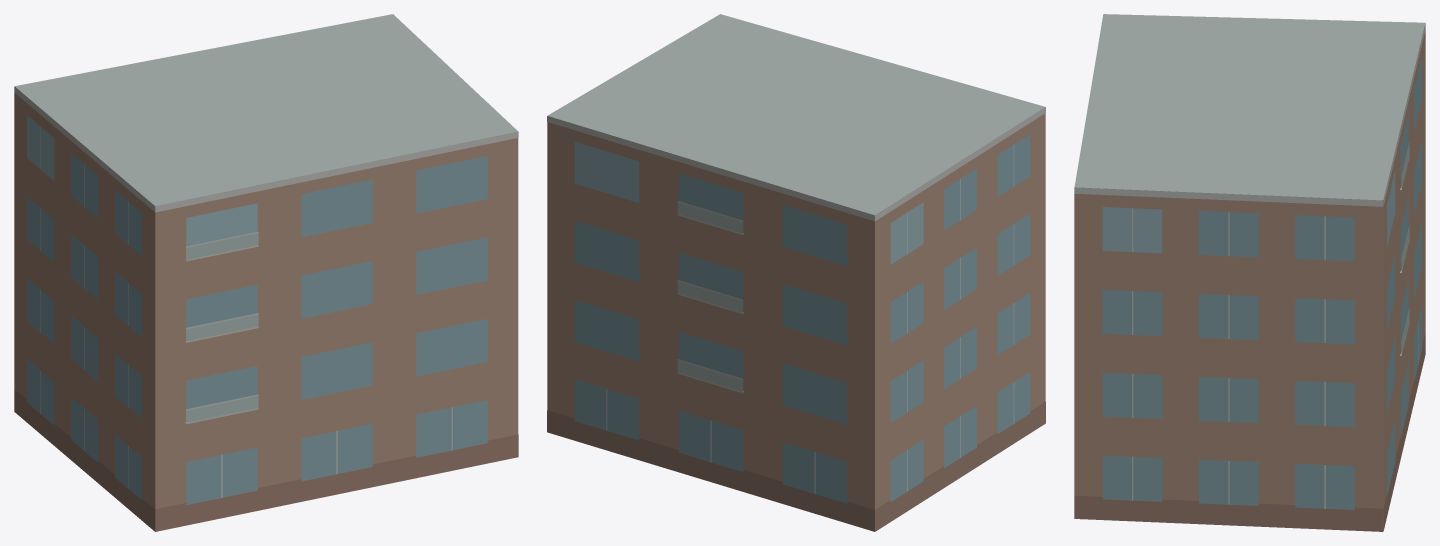
The model's file is survey-upis-32658198.glb.
3 views of the same model, side by side, from view 1: azimuth 30°, elevation 25°; view 2: azimuth 150°, elevation 25°; view 3: azimuth 270°, elevation 25° (orthographic). The views are drawn at different scales.
Parts seen in each view (by area): view 1: survey-upis-32658198.tmp; view 2: survey-upis-32658198.tmp; view 3: survey-upis-32658198.tmp.
Part boxes in pixels (x1,y1,x2,y2): survey-upis-32658198.tmp: [14, 14, 518, 531]; survey-upis-32658198.tmp: [547, 14, 1045, 531]; survey-upis-32658198.tmp: [1074, 14, 1425, 531].
Bounding box in the file's own units: 15.33 × 12.7 × 12.2.
